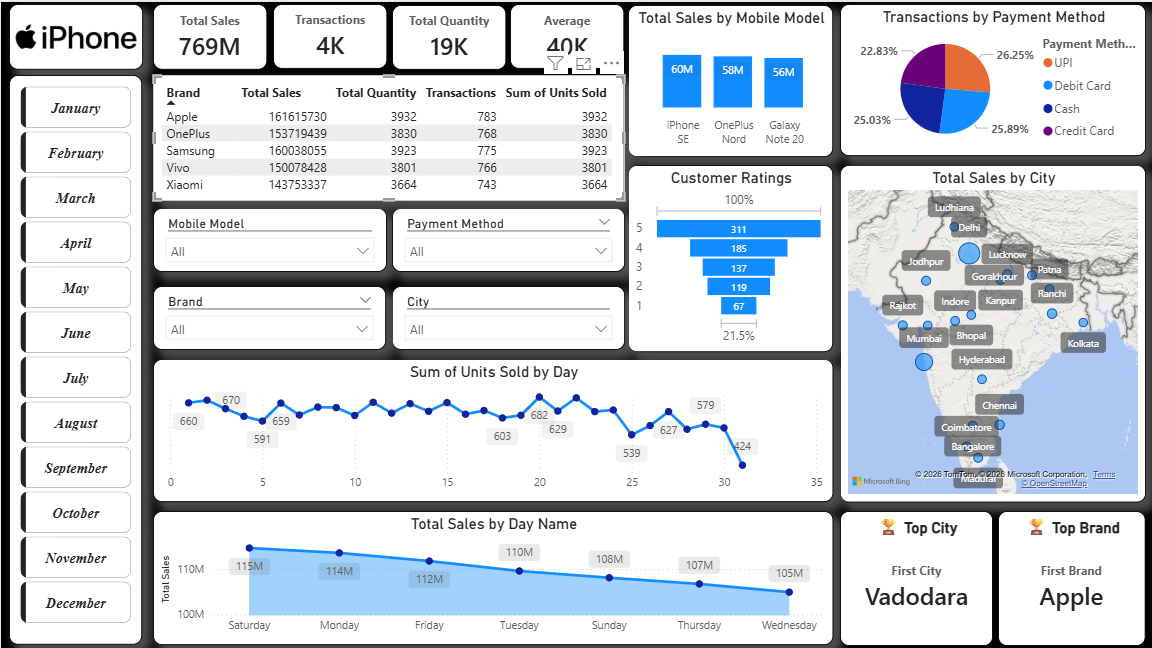

The dashboard page shown, as its layout file describes it:
{"tool":"powerbi","page":{"name":"Page 1","canvas":[1280,720],"ordinal":0},"visuals":[{"type":"shape","box":[9,2,149,73],"z":0},{"type":"image","box":[9,2,149,73],"z":1000},{"type":"shape","box":[9.1,80.9,148.2,632.7],"z":2000},{"type":"advancedSlicerVisual","fields":{"Values":["Sales_Data.Date.Variation.Date Hierarchy.Month"]},"box":[16.4,89.1,133.6,615.5],"z":3000},{"type":"cardVisual","fields":{"Data":["Sales_Data.Total Sales"]},"box":[169,2,126.5,72.5],"z":4000},{"type":"cardVisual","fields":{"Data":["Sales_Data.Total Quantity"]},"box":[434.4,2.8,127.2,71.7],"z":5000},{"type":"cardVisual","fields":{"Data":["Sales_Data.Transactions"]},"box":[301.7,2.2,127.2,71.7],"z":6000},{"type":"cardVisual","fields":{"Data":["Sales_Data.Average"]},"box":[565.6,1.7,127.2,72.2],"z":7000},{"type":"map","fields":{"Category":["Sales_Data.City"],"Size":["Sales_Data.Total Sales"]},"box":[932,181,340,375],"z":8000},{"type":"lineChart","fields":{"Y":["Sum(Sales_Data.Units Sold)"],"Category":["Sales_Data.Date.Variation.Date Hierarchy.Month","Sales_Data.Date.Variation.Date Hierarchy.Day"]},"box":[169,397,756,159],"z":9000},{"type":"clusteredColumnChart","fields":{"Y":["Sales_Data.Total Sales"],"Category":["Sales_Data.Mobile Model"]},"box":[696.7,2.8,228.3,168.9],"z":10000},{"type":"pieChart","fields":{"Category":["Sales_Data.Payment Method"],"Y":["Sales_Data.Transactions"]},"box":[931.7,1.7,340,169.4],"z":11000},{"type":"funnel","title":"Customer Ratings","fields":{"Category":["Sales_Data.Customer Ratings"],"Y":["CountNonNull(Sales_Data.Customer Ratings)"]},"box":[697,181,228,208],"z":12000},{"type":"areaChart","title":"Total Sales by Day Name","fields":{"Y":["Sales_Data.Total Sales"],"Category":["Sales_Data.Day Name.1"]},"box":[169,565,756,149],"z":13000},{"type":"tableEx","fields":{"Values":["Sales_Data.Brand","Sales_Data.Total Sales","Sales_Data.Total Quantity","Sales_Data.Transactions","Sum(Sales_Data.Units Sold)"]},"box":[169,81,524,140],"z":14000},{"type":"slicer","fields":{"Values":["Sales_Data.Mobile Model"]},"box":[169,229,260,71],"z":15000},{"type":"slicer","fields":{"Values":["Sales_Data.Payment Method"]},"box":[434,229,259,71],"z":16000},{"type":"slicer","fields":{"Values":["Sales_Data.City"]},"box":[434,315,259,71],"z":17000},{"type":"slicer","fields":{"Values":["Sales_Data.Brand"]},"box":[169,315,259,71],"z":18000},{"type":"cardVisual","title":"🏆 Top City","fields":{"Data":["Min(Sales_Data.City)"]},"box":[931.8,565.5,170,150],"z":18001},{"type":"cardVisual","title":"🏆 Top Brand","fields":{"Data":["Min(Sales_Data.Brand)"]},"box":[1108.2,565.5,163.6,150],"z":18002}]}

Visuals, with their boxes in screenshot pixels (x1, y1, x2, y2), scaled from the page's 1280x720 canvas onto the 1152x648 screenshot:
shape: l=8, t=2, r=142, b=68
image: l=8, t=2, r=142, b=68
shape: l=8, t=73, r=142, b=642
advancedSlicerVisual - Sales_Data.Date.Variation.Date Hierarchy.Month: l=15, t=80, r=135, b=634
cardVisual - Sales_Data.Total Sales: l=152, t=2, r=266, b=67
cardVisual - Sales_Data.Total Quantity: l=391, t=3, r=505, b=67
cardVisual - Sales_Data.Transactions: l=272, t=2, r=386, b=67
cardVisual - Sales_Data.Average: l=509, t=2, r=624, b=67
map - Sales_Data.City x Sales_Data.Total Sales: l=839, t=163, r=1145, b=500
lineChart - Sum(Sales_Data.Units Sold) x Sales_Data.Date.Variation.Date Hierarchy.Month: l=152, t=357, r=832, b=500
clusteredColumnChart - Sales_Data.Total Sales x Sales_Data.Mobile Model: l=627, t=3, r=832, b=155
pieChart - Sales_Data.Payment Method x Sales_Data.Transactions: l=839, t=2, r=1145, b=154
"Customer Ratings" funnel: l=627, t=163, r=832, b=350
"Total Sales by Day Name" areaChart: l=152, t=508, r=832, b=643
tableEx - Sales_Data.Brand x Sales_Data.Total Sales: l=152, t=73, r=624, b=199
slicer - Sales_Data.Mobile Model: l=152, t=206, r=386, b=270
slicer - Sales_Data.Payment Method: l=391, t=206, r=624, b=270
slicer - Sales_Data.City: l=391, t=284, r=624, b=347
slicer - Sales_Data.Brand: l=152, t=284, r=385, b=347
"🏆 Top City" cardVisual: l=839, t=509, r=992, b=644
"🏆 Top Brand" cardVisual: l=997, t=509, r=1145, b=644
